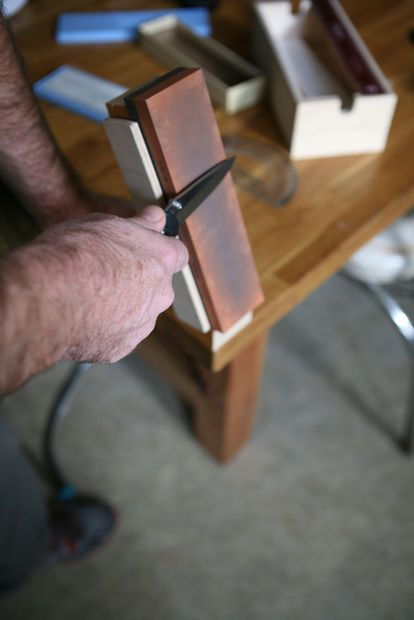knife: (149, 154, 241, 254)
